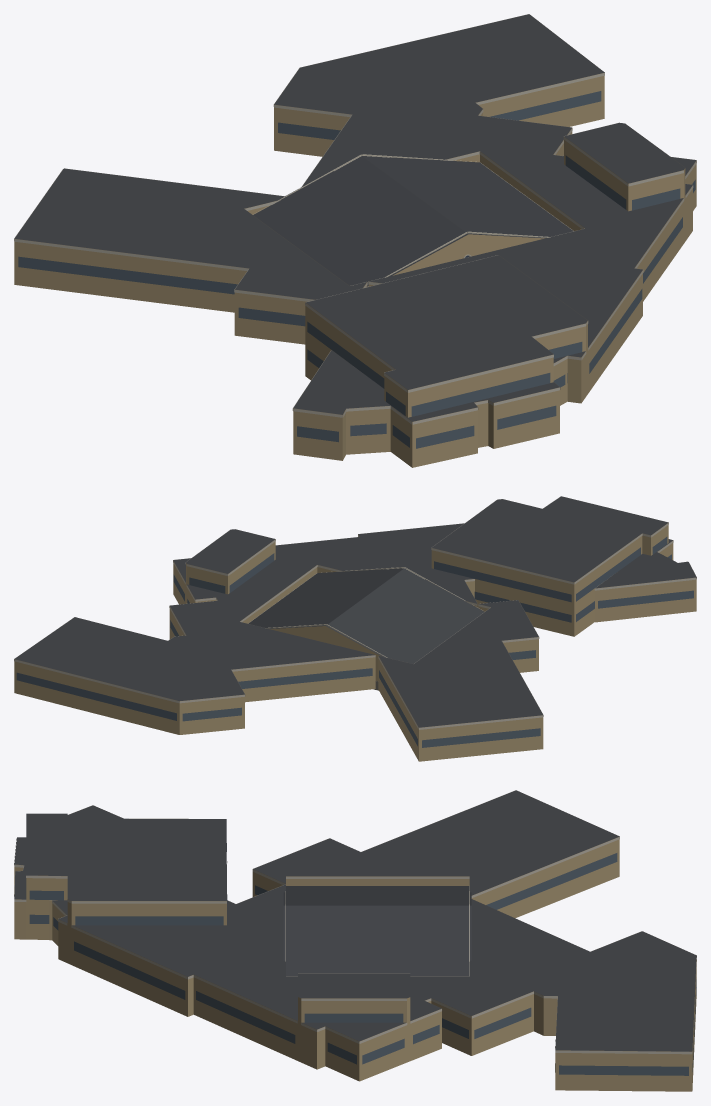
The model's file is christ-church.glb.
The picture shows the model from 3 angles, top to bottom: view 1: azimuth 30°, elevation 25°; view 2: azimuth 150°, elevation 25°; view 3: azimuth 270°, elevation 25°; orthographic projection. The views are drawn at different scales.
Visible parts, largest first — view 1: christ_church; view 2: christ_church; view 3: christ_church.
Part boxes in pixels (x1,y1,x2,y2): christ_church: [14, 14, 696, 467]; christ_church: [14, 496, 696, 761]; christ_church: [14, 790, 696, 1091].
Size of the model in its own units: 105 by 12.28 by 116.
